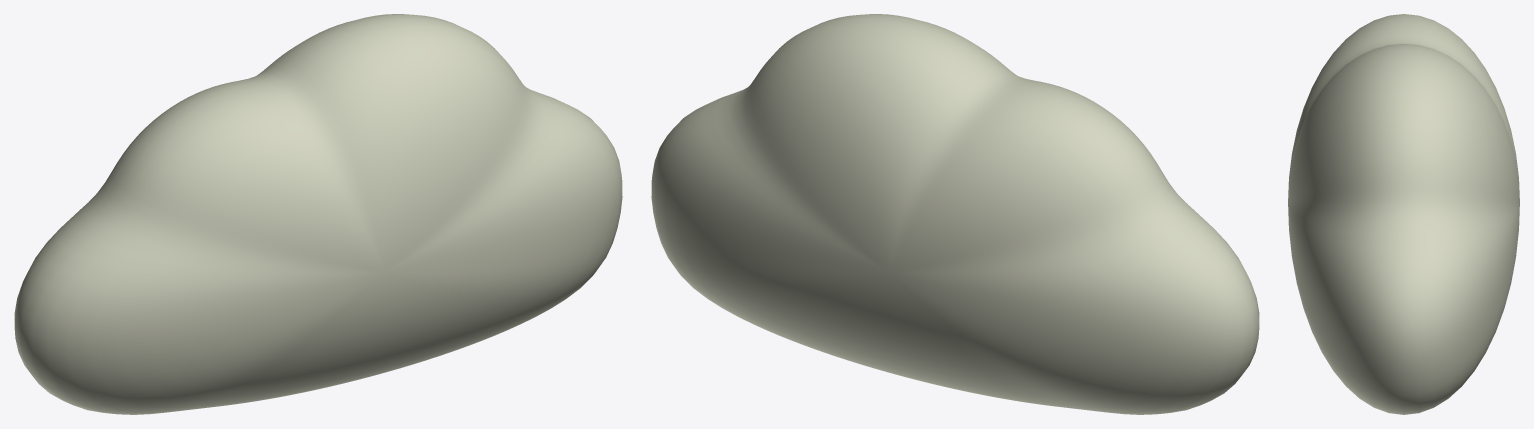
The model's file is sky_cloud.glb.
3 views of the same model, side by side, from view 1: azimuth 30°, elevation 25°; view 2: azimuth 150°, elevation 25°; view 3: azimuth 270°, elevation 25° (orthographic). The views are drawn at different scales.
Visible parts, largest first — view 1: CloudBody; view 2: CloudBody; view 3: CloudBody.
Boxes of the visible parts, left/top/right/bottom form: CloudBody: left=14, top=14, right=622, bottom=414; CloudBody: left=651, top=14, right=1259, bottom=414; CloudBody: left=1288, top=14, right=1519, bottom=414.
Bounding box in the file's own units: 2.36 × 1.28 × 0.88.
